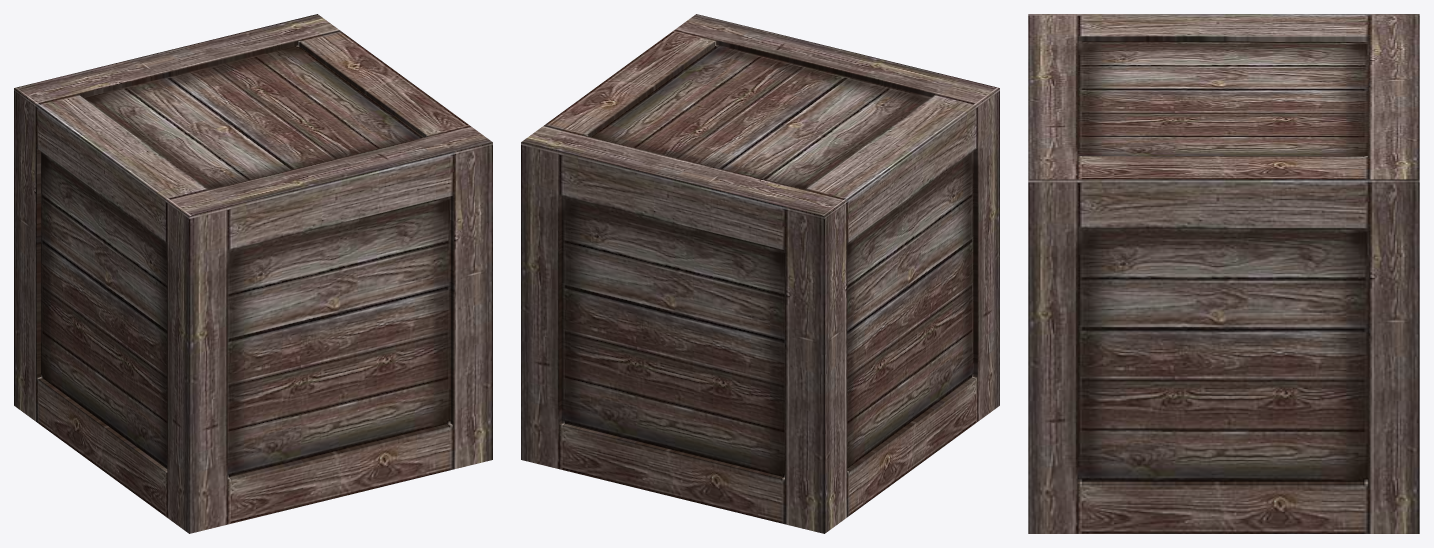
File: Crate2.fbx
The picture shows the model from 3 angles, left to right: view 1: azimuth 30°, elevation 25°; view 2: azimuth 150°, elevation 25°; view 3: azimuth 270°, elevation 25°; orthographic projection. The views are drawn at different scales.
Parts seen in each view (by area): view 1: Mesh5; view 2: Mesh5; view 3: Mesh5.
Boxes of the visible parts, bbox=[...] form: Mesh5: bbox=[14, 14, 492, 533]; Mesh5: bbox=[521, 14, 999, 533]; Mesh5: bbox=[1028, 14, 1419, 533].
Bounding box in the file's own units: 1401 × 1401 × 1401.
1 material, 1 textured.
